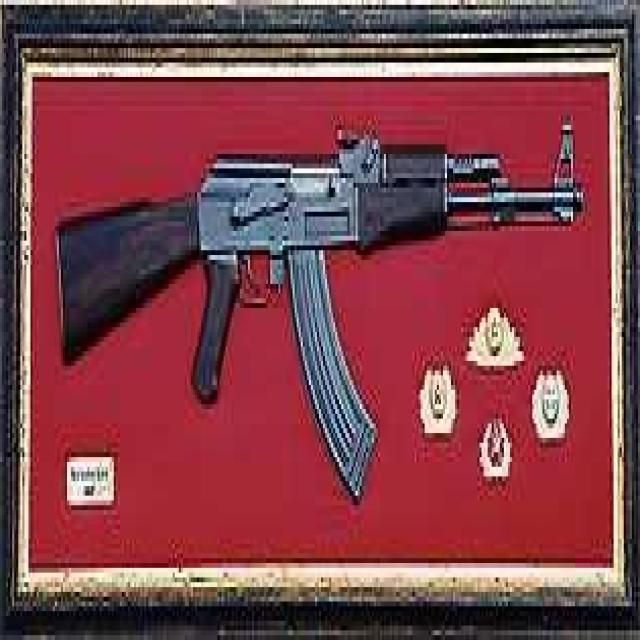heavyweapon: (44, 98, 588, 478)
